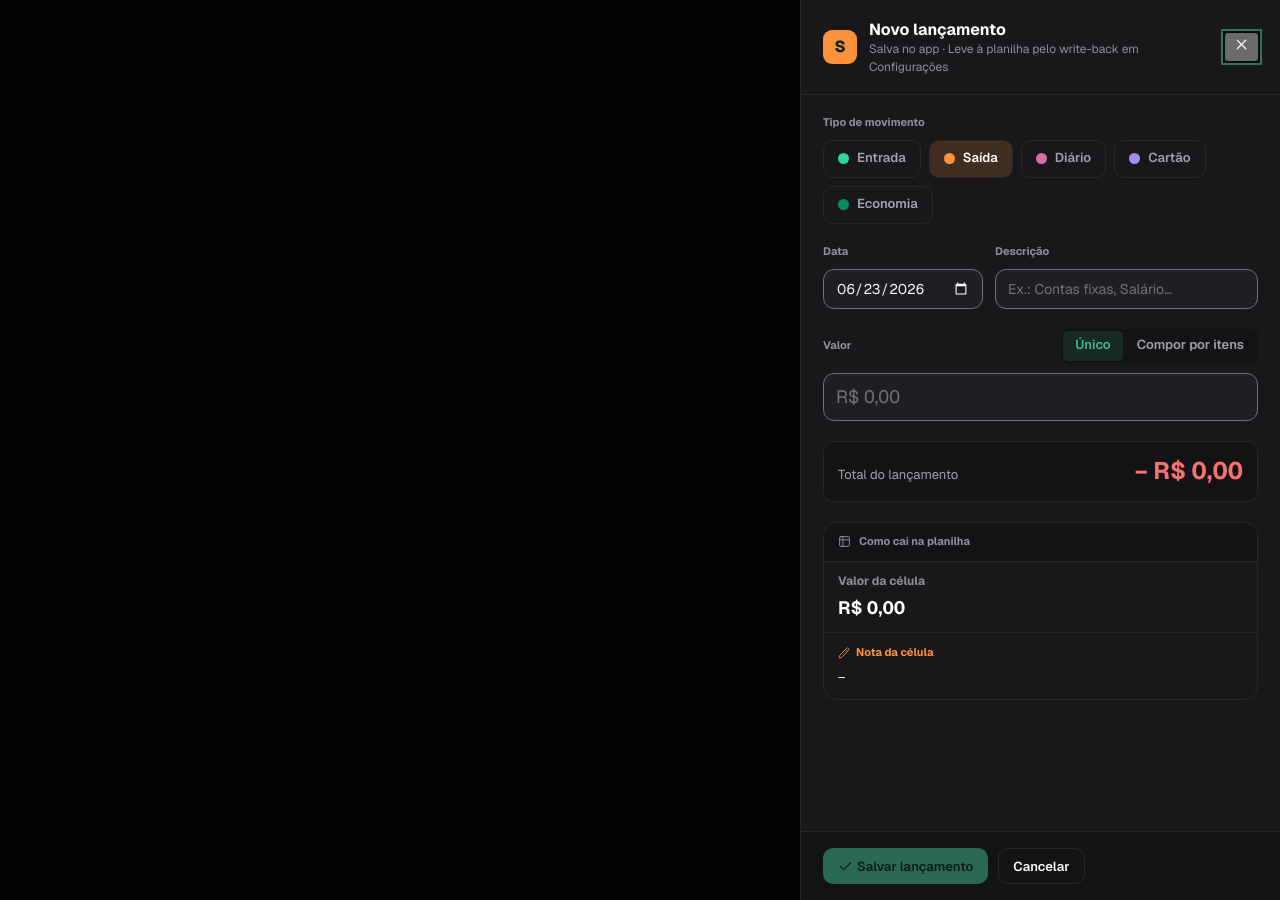
it: Compose › retry após falha limpa o erro e salva
This screenshot has width=1280, height=900.
Type "10,00" into the field named "Valor único" at (1040, 397), box [823,373,1258,421]
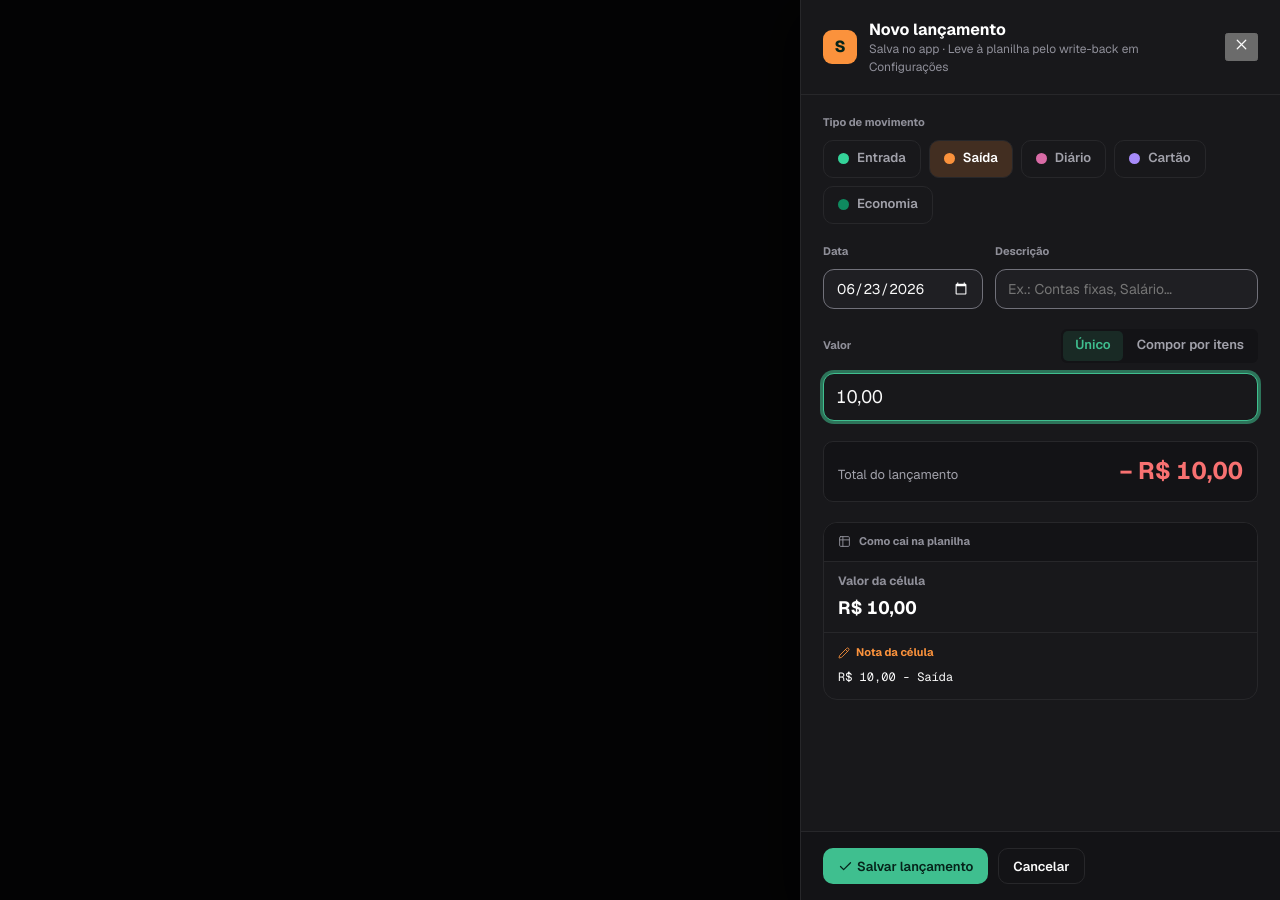
Click the button "Salvar lançamento" at (906, 866), box [823,848,988,884]
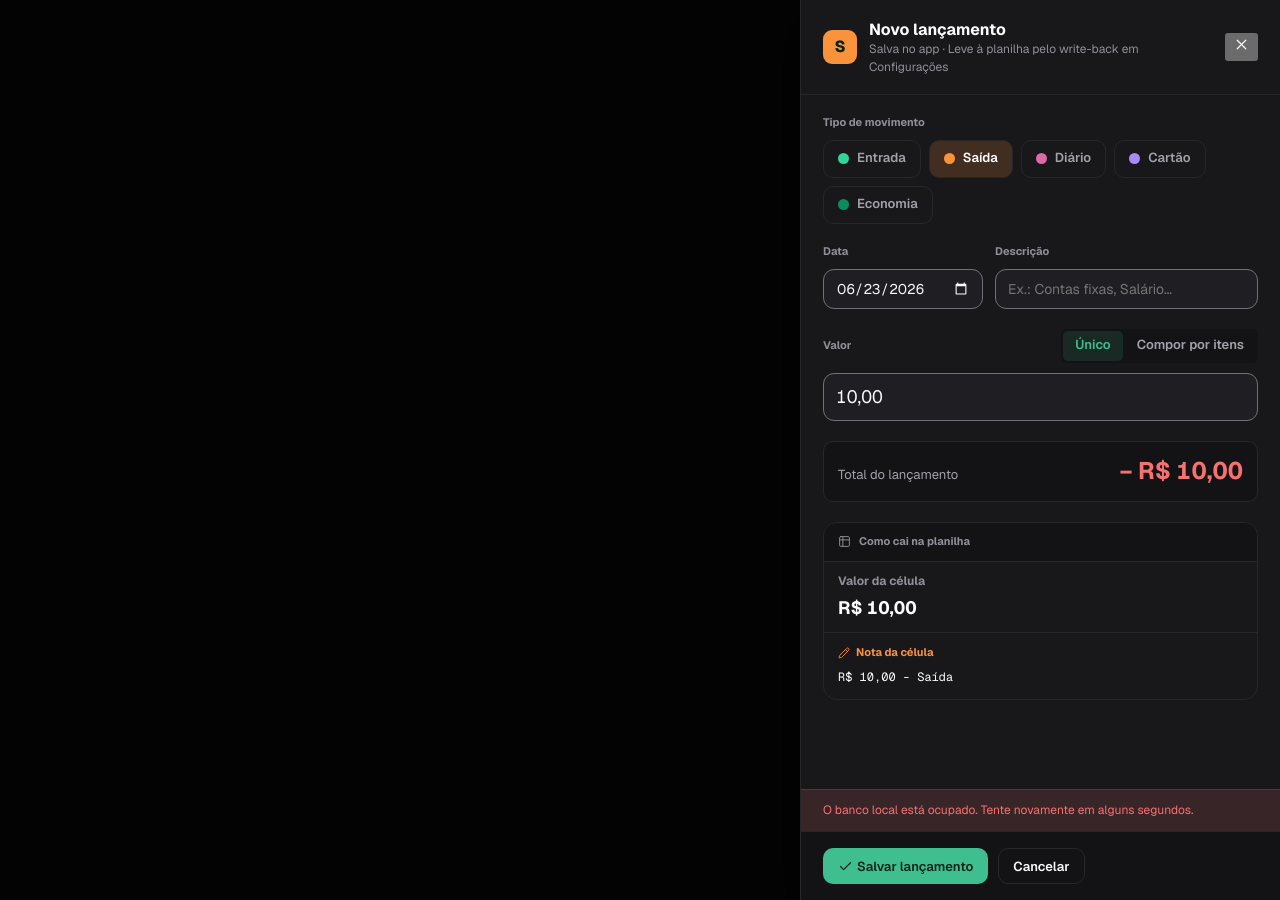
Result: the message "O banco local está ocupado. Tente novamente em alguns segundos." is shown at [801,789,1279,831]
Click the button "Salvar lançamento" at (906, 866), box [823,848,988,884]
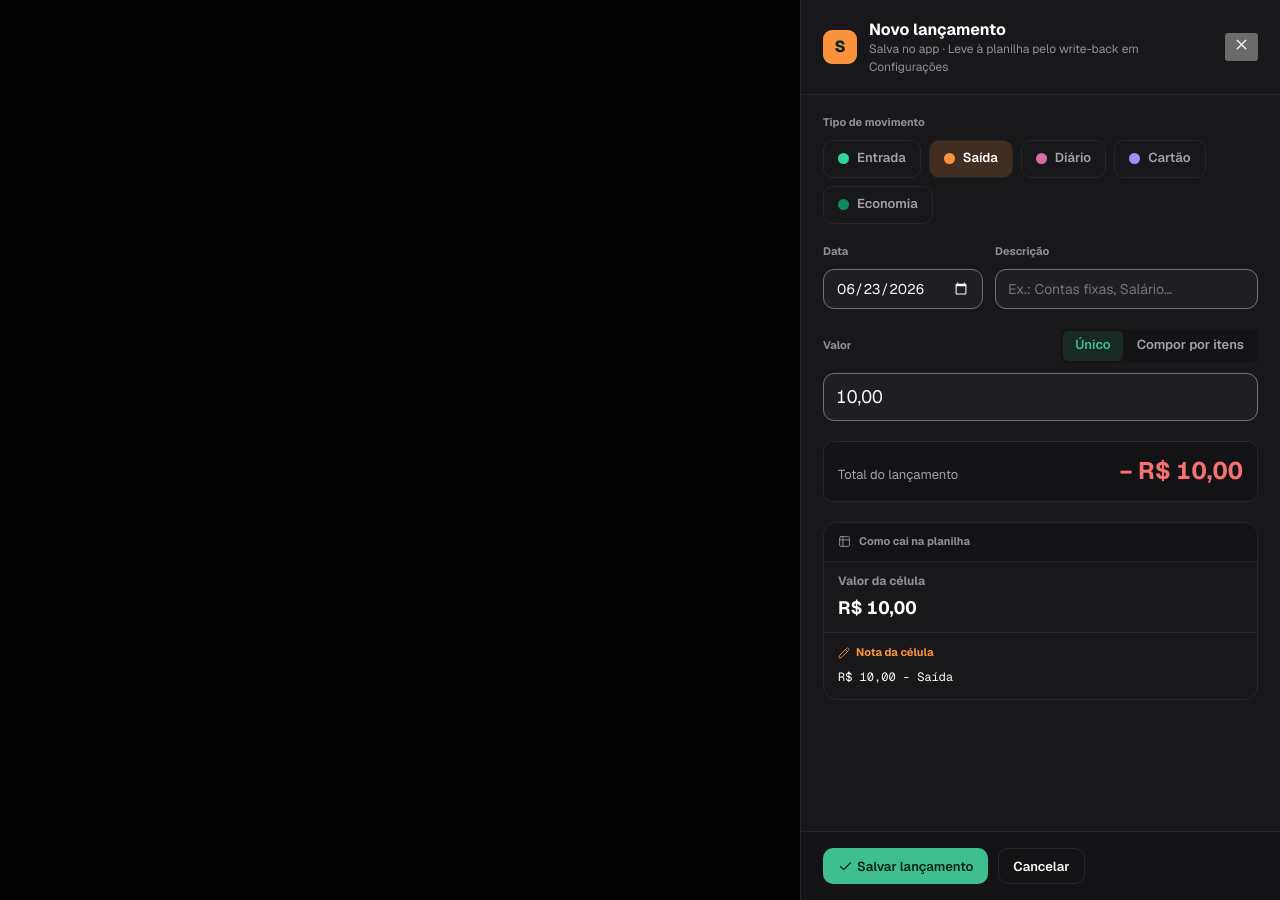
Result: the message "O banco local está ocupado. Tente novamente em alguns segundos." is gone
